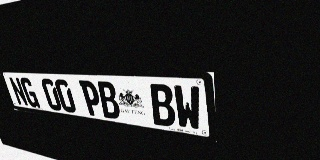0: (53, 79, 77, 113), (40, 78, 63, 111)
B: (148, 84, 176, 128), (96, 81, 122, 120)
G: (19, 77, 41, 108)
N: (8, 77, 29, 107)
P: (79, 80, 104, 117)
W: (173, 85, 202, 131)
